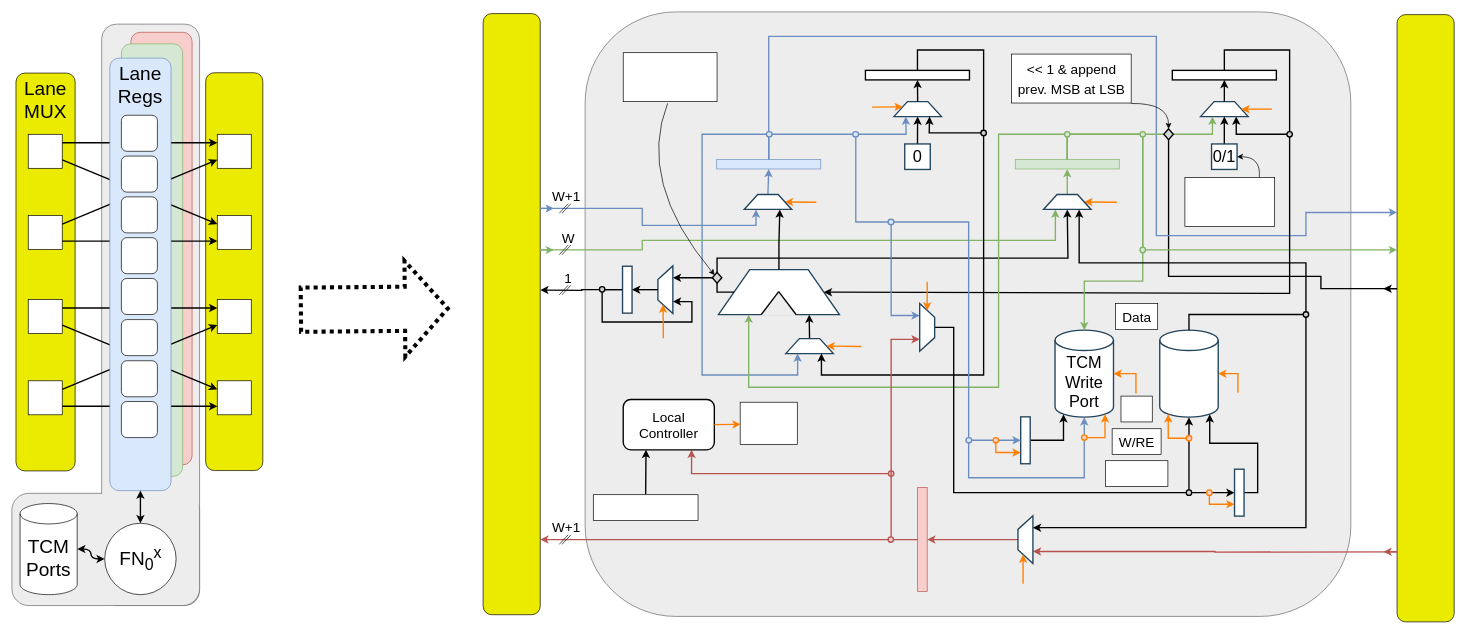
Some shapes in this 1466 by 634 pixel diagram are drawn without their labels. Each missing label, with the centre of its shape:
"'1' For 2s Complement" belongs at (x=1229, y=201).
"Address" belongs at (x=1136, y=473).
"Control Lines" belongs at (x=768, y=423).
"Copy MSB to prev. block" belongs at (x=670, y=77).
"Global Counter" belongs at (x=645, y=507).
"PE" belongs at (x=1136, y=408).
"TCM Read Port" belongs at (x=1189, y=373).
